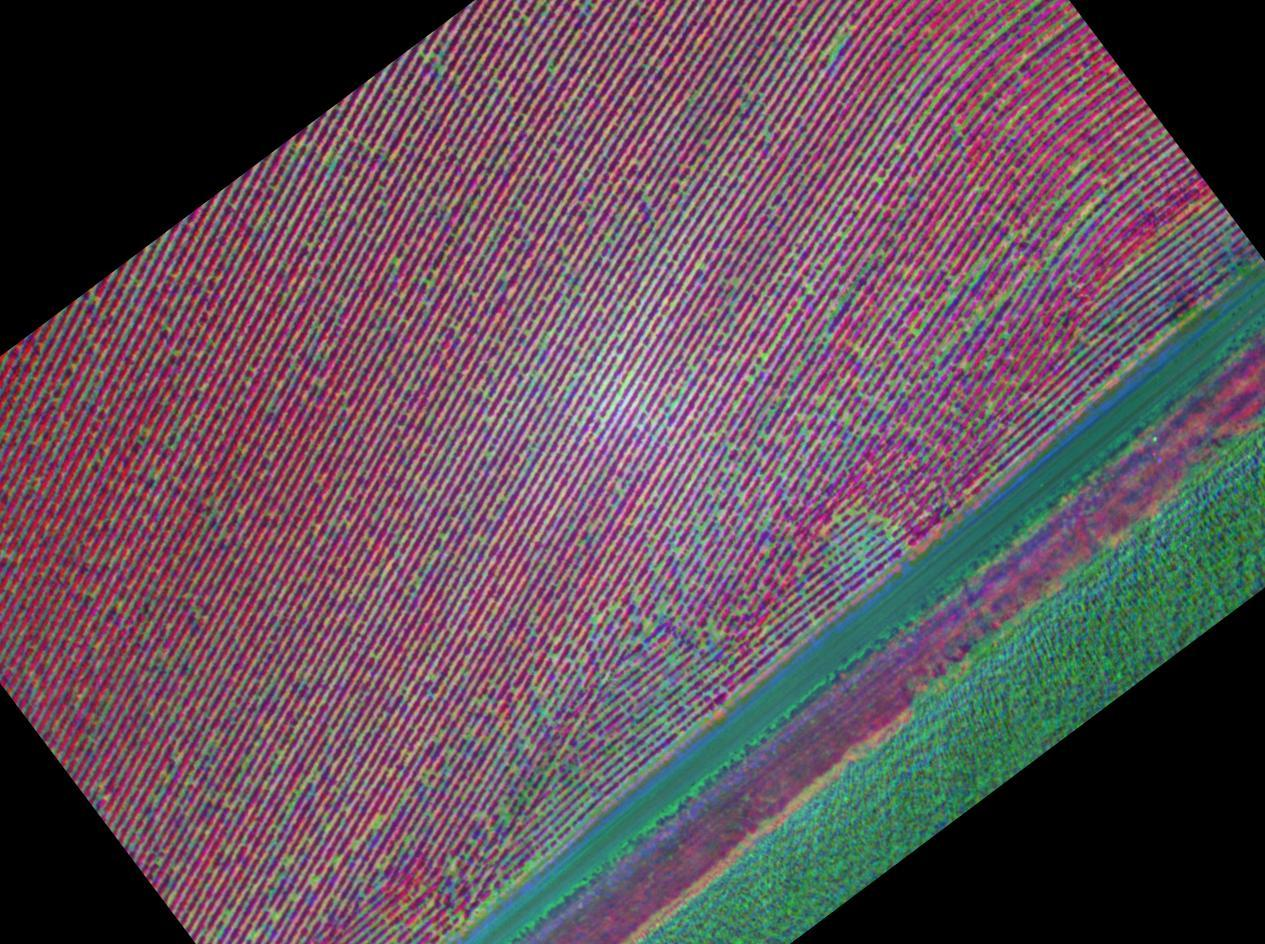dc: (628, 373, 633, 378), (1076, 166, 1080, 171), (975, 186, 979, 191), (733, 280, 737, 285), (806, 286, 810, 291), (763, 355, 767, 360), (819, 398, 823, 403), (884, 519, 888, 524), (879, 179, 883, 183), (700, 265, 704, 269), (672, 303, 676, 306), (718, 512, 721, 516), (595, 618, 599, 621), (638, 597, 641, 600), (660, 606, 663, 609), (646, 624, 649, 627)
